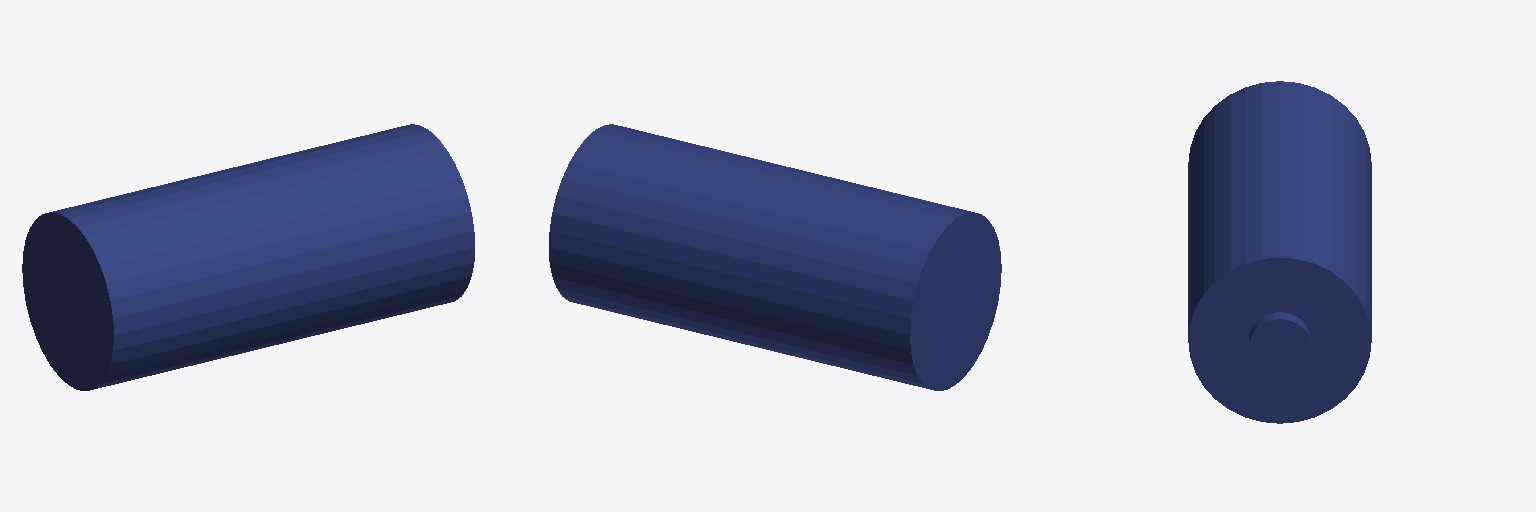
File: battery_pack.obj
3 renders of one model, left to right at view 1: azimuth 30°, elevation 25°; view 2: azimuth 150°, elevation 25°; view 3: azimuth 270°, elevation 25°, orthographic.
Visible parts, largest first — view 1: Cylinder; view 2: Cylinder; view 3: Cylinder, Cylinder.001.
Part boxes in pixels (x1,y1,x2,y2): Cylinder: (22, 124, 474, 390); Cylinder: (549, 124, 1001, 390); Cylinder: (1188, 81, 1371, 423); Cylinder.001: (1249, 312, 1310, 375).
Bounding box in the file's own units: 0.6008 × 0.2541 × 0.2541.